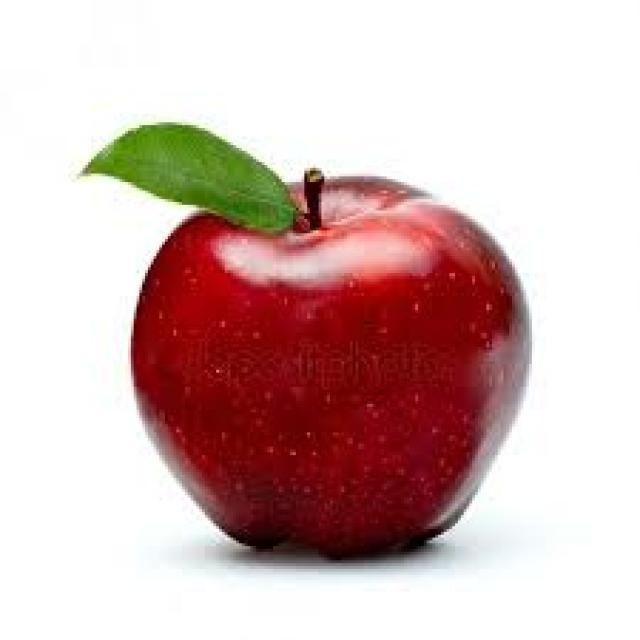agrume: (47, 94, 573, 629)
